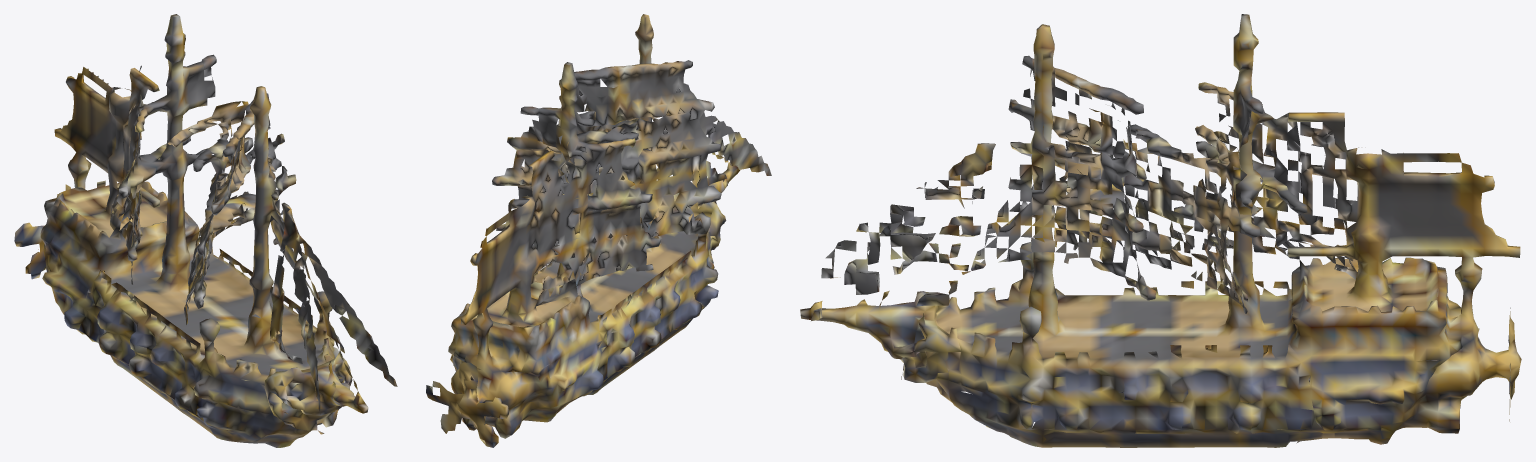
The model's file is mon3d_lo.glb.
3 renders of one model, left to right at view 1: azimuth 30°, elevation 25°; view 2: azimuth 150°, elevation 25°; view 3: azimuth 270°, elevation 25°, orthographic. The views are drawn at different scales.
Bounding box in the file's own units: 0.5625 × 1.23 × 1.95.
